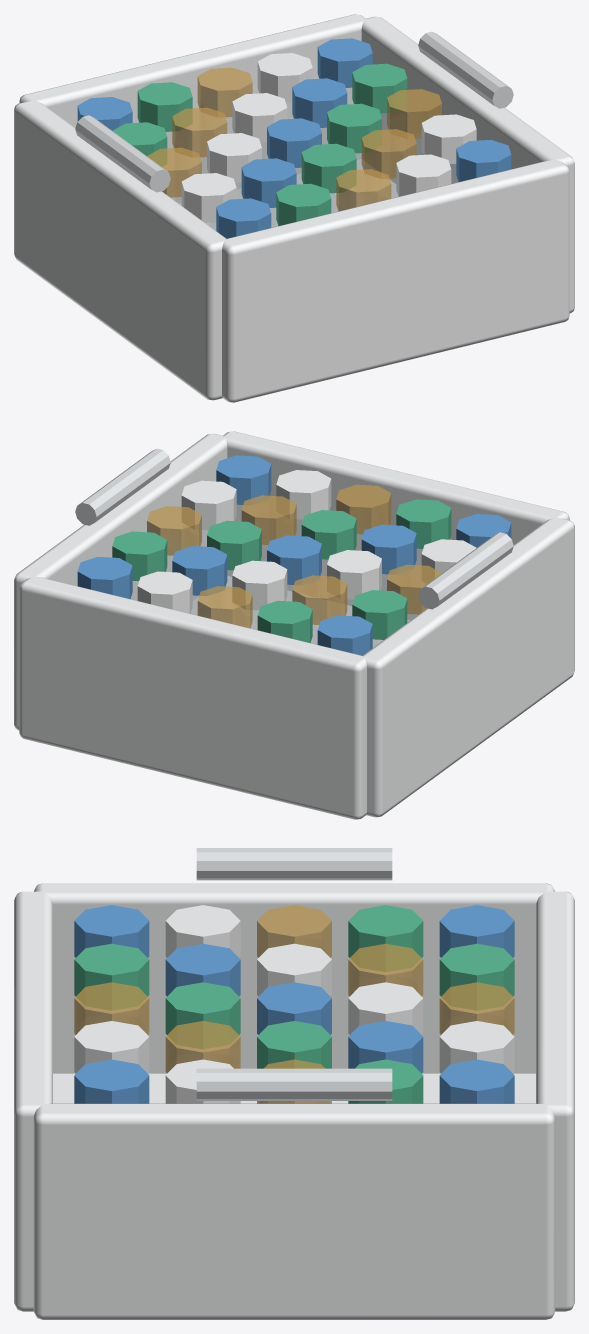
File: sample-vial-rack.glb
The picture shows the model from 3 angles, top to bottom: view 1: azimuth 30°, elevation 25°; view 2: azimuth 150°, elevation 25°; view 3: azimuth 270°, elevation 25°; orthographic projection. The views are drawn at different scales.
Visible parts, largest first — view 1: sample-vial-rack; view 2: sample-vial-rack; view 3: sample-vial-rack.
Part boxes in pixels (<box>): sample-vial-rack: <box>14,14,574,402</box>; sample-vial-rack: <box>14,431,574,819</box>; sample-vial-rack: <box>14,848,574,1319</box>.
Size of the model in its own units: 0.172 by 0.0828 by 0.172.
